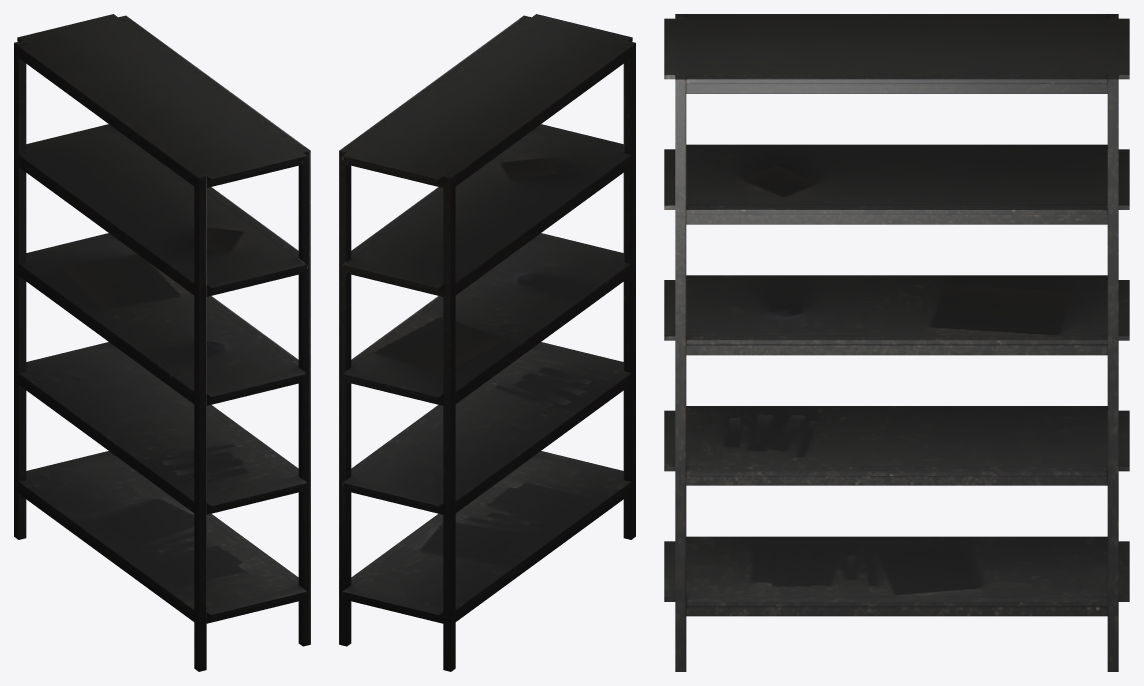
File: bookself.glb
3 views of the same model, side by side, from view 1: azimuth 30°, elevation 25°; view 2: azimuth 150°, elevation 25°; view 3: azimuth 270°, elevation 25° (orthographic). The views are drawn at different scales.
Visible parts, largest first — view 1: bookself_Baked; view 2: bookself_Baked; view 3: bookself_Baked.
Boxes of the visible parts, box(x1,y1,x2,y2) form: bookself_Baked: box(14, 14, 310, 671); bookself_Baked: box(339, 14, 635, 671); bookself_Baked: box(664, 14, 1129, 671).
Size of the model in its own units: 0.43 by 1.81 by 1.29.
1 material, 1 textured.
